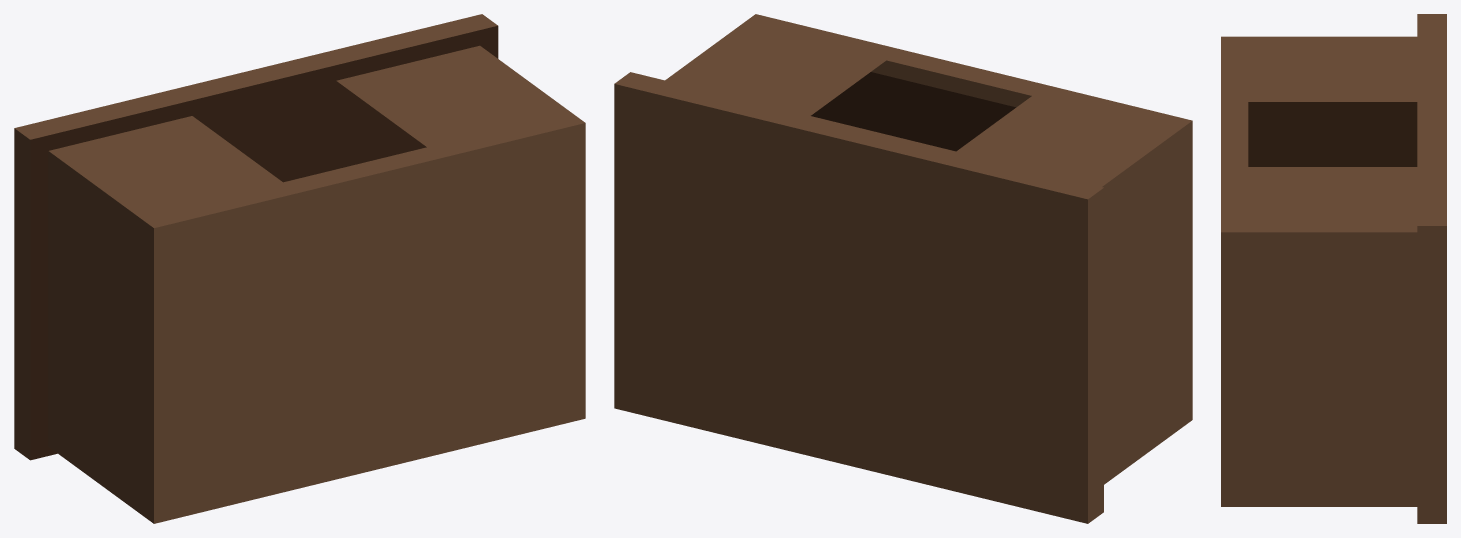
File: smallCrate.fbx
The picture shows the model from 3 angles, left to right: view 1: azimuth 30°, elevation 25°; view 2: azimuth 150°, elevation 25°; view 3: azimuth 270°, elevation 25°; orthographic projection. The views are drawn at different scales.
Parts seen in each view (by area): view 1: Crate; view 2: Crate; view 3: Crate.
Part boxes in pixels (bbox=[...]): Crate: bbox=[14, 14, 585, 523]; Crate: bbox=[614, 14, 1192, 523]; Crate: bbox=[1221, 14, 1446, 523].
Size of the model in its own units: 115 by 75.08 by 51.6.
